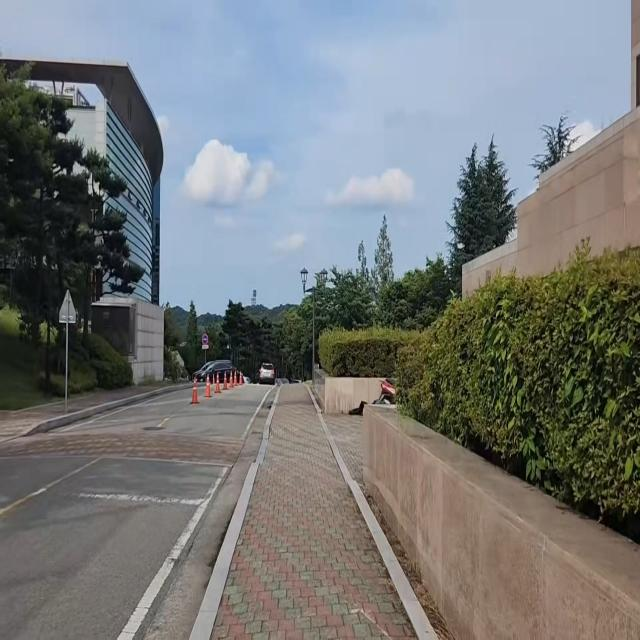obstacle: (257, 359, 278, 388)
road: (0, 382, 272, 640)
sidewalk: (199, 382, 440, 640)
